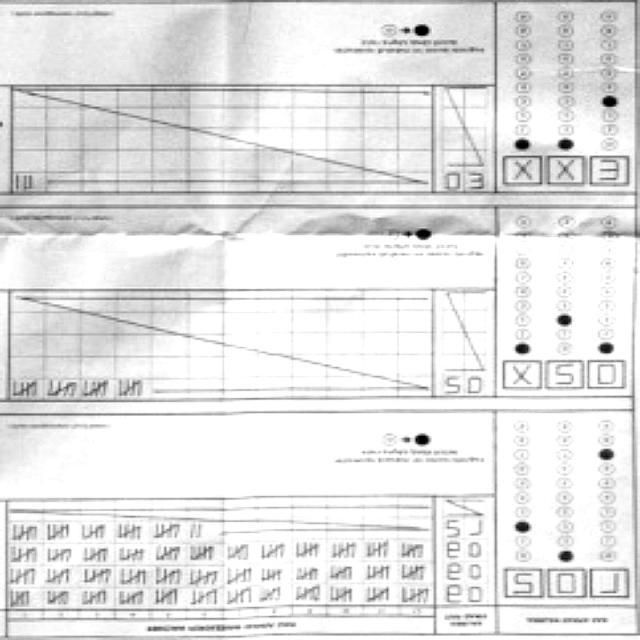Suara: (499, 153, 633, 190), (499, 566, 633, 602), (498, 358, 632, 393)
